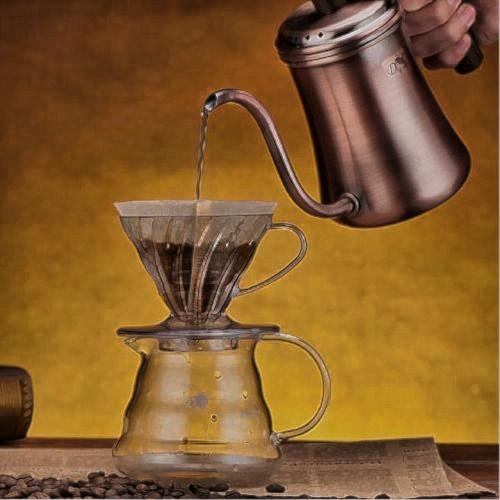kettle: (93, 193, 322, 469), (216, 9, 480, 227)
